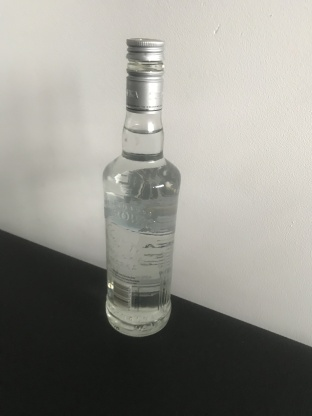nakretka: (124, 35, 165, 115), (118, 25, 142, 79)
